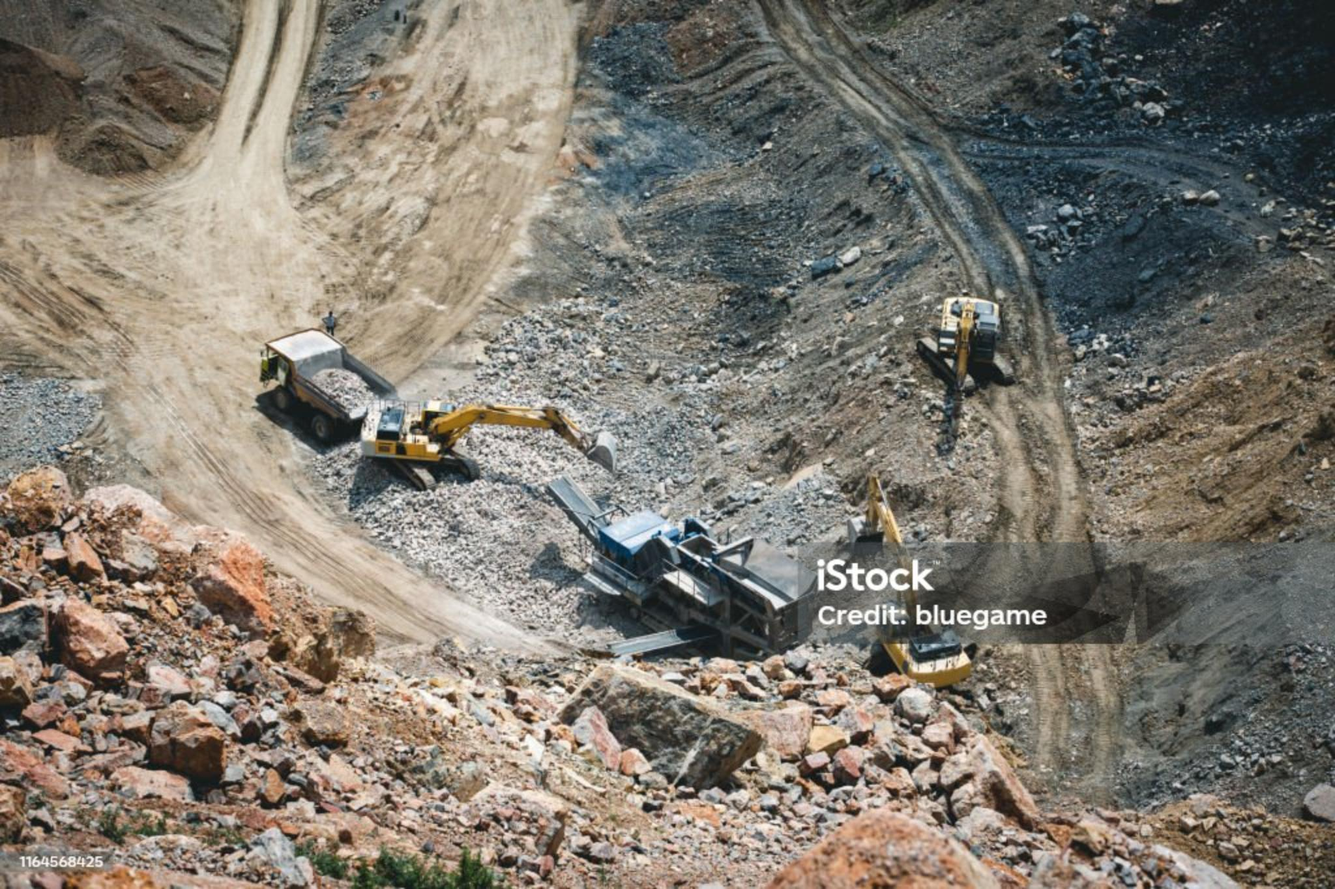benches: (0, 0, 610, 652), (733, 0, 1100, 545), (1012, 643, 1128, 803)
excavator: (366, 421, 589, 461), (883, 590, 958, 682), (939, 312, 1008, 392), (866, 472, 903, 555), (950, 299, 995, 312), (463, 409, 527, 415)
truck: (259, 328, 394, 430)
